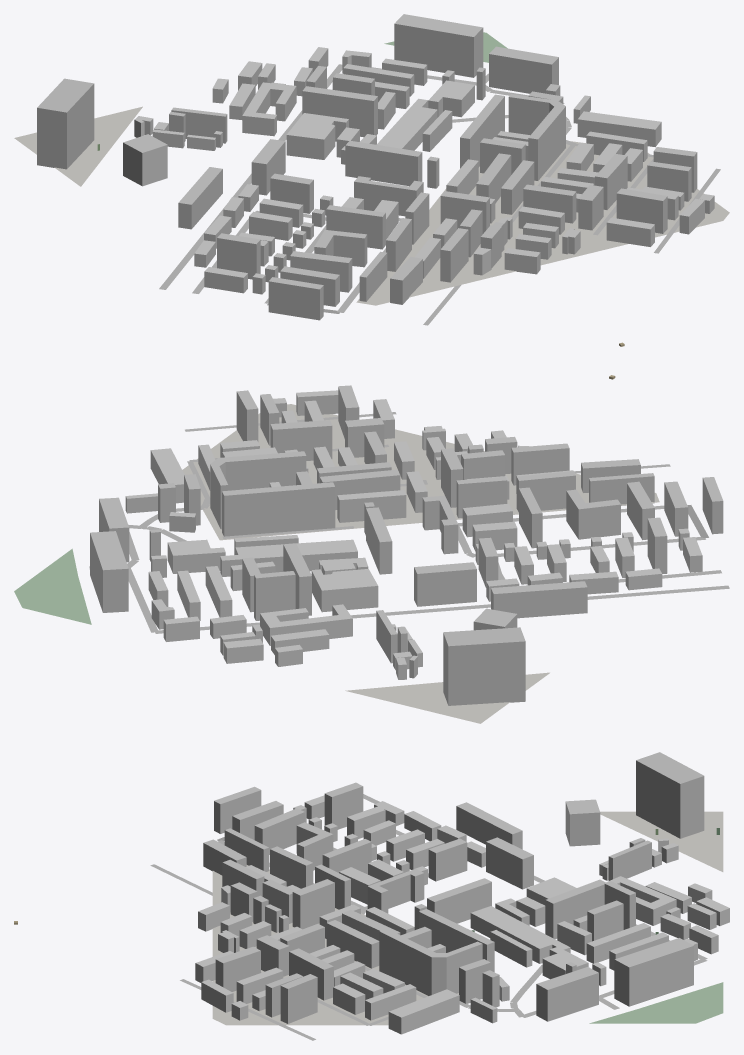
3 renders of one model, top to bottom at view 1: azimuth 30°, elevation 25°; view 2: azimuth 150°, elevation 25°; view 3: azimuth 270°, elevation 25°, orthographic. The views are drawn at different scales.
Bounding box in the file's own units: 590 × 59.9 × 701.
